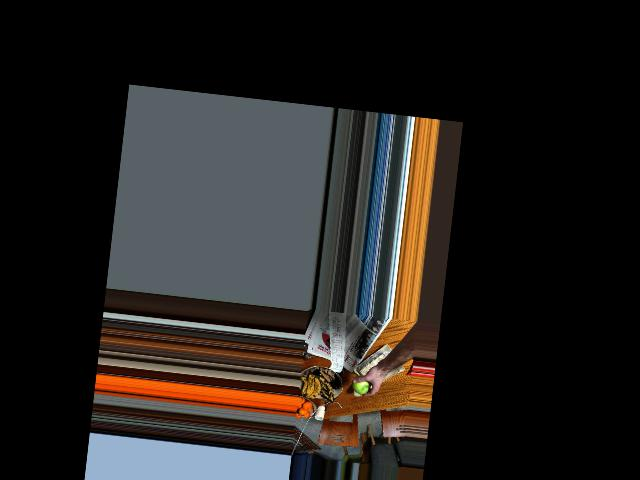apple: (352, 369, 376, 394)
